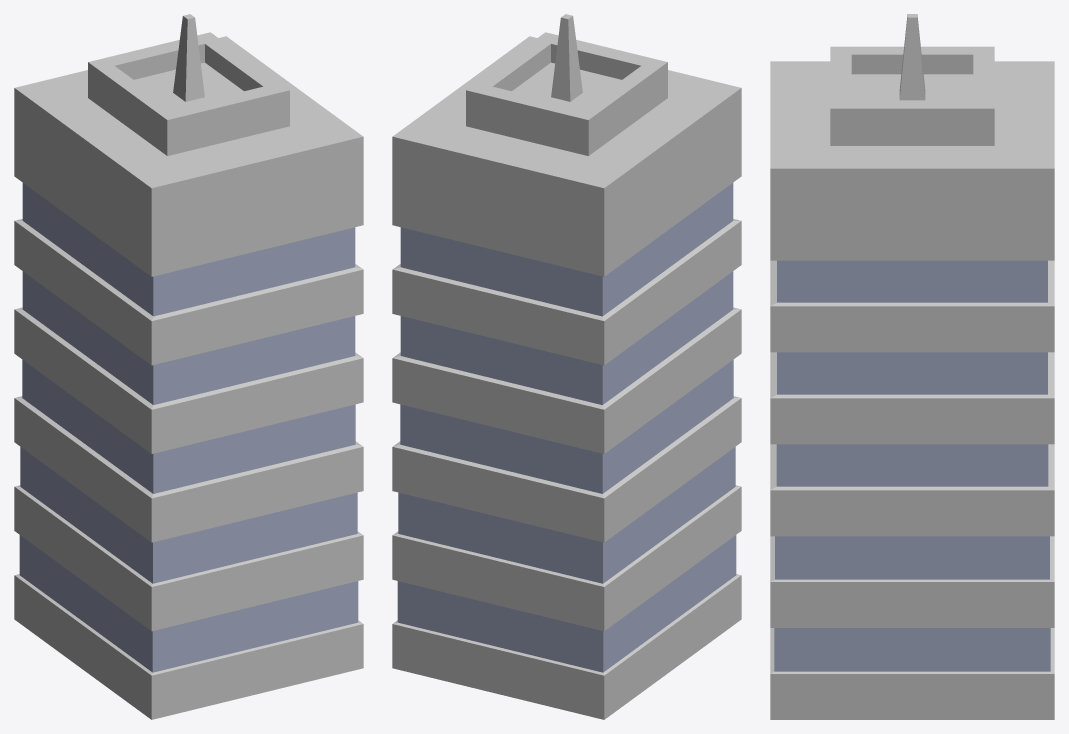
Rendered from Colapse_B_Antena.fbx.
3 views of the same model, side by side, from view 1: azimuth 30°, elevation 25°; view 2: azimuth 150°, elevation 25°; view 3: azimuth 270°, elevation 25° (orthographic). The views are drawn at different scales.
Parts seen in each view (by area): view 1: 3, 2, 1; view 2: 3, 2, 1; view 3: 3, 1, 2.
Boxes of the visible parts, box(x1,y1,x2,y2) form: 3: box(14, 359, 363, 719); 2: box(14, 183, 363, 453); 1: box(14, 14, 363, 276); 3: box(392, 359, 741, 719); 2: box(392, 183, 741, 453); 1: box(392, 14, 741, 276); 3: box(770, 444, 1054, 719); 1: box(770, 14, 1054, 260); 2: box(770, 260, 1054, 444).
Size of the model in its own units: 103 by 293 by 116.
